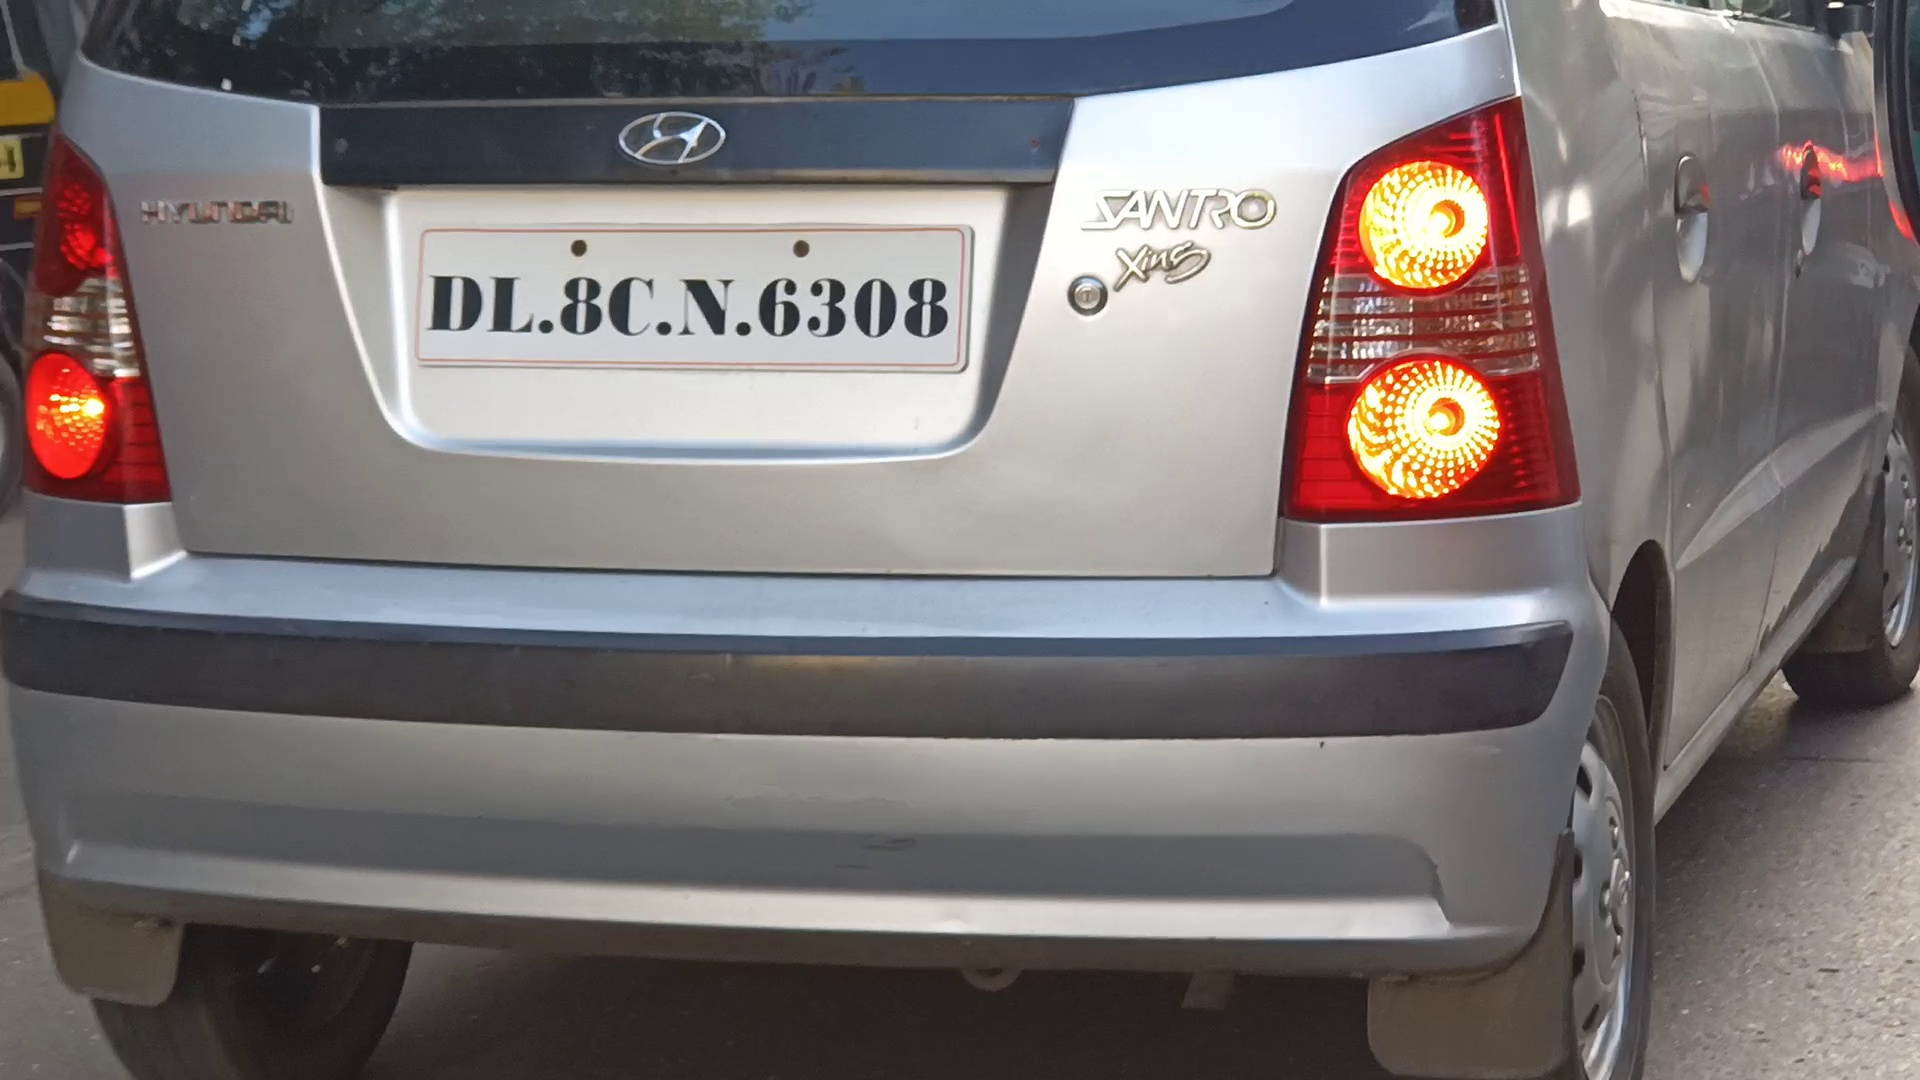DL8CN6308: (419, 229, 964, 363)
